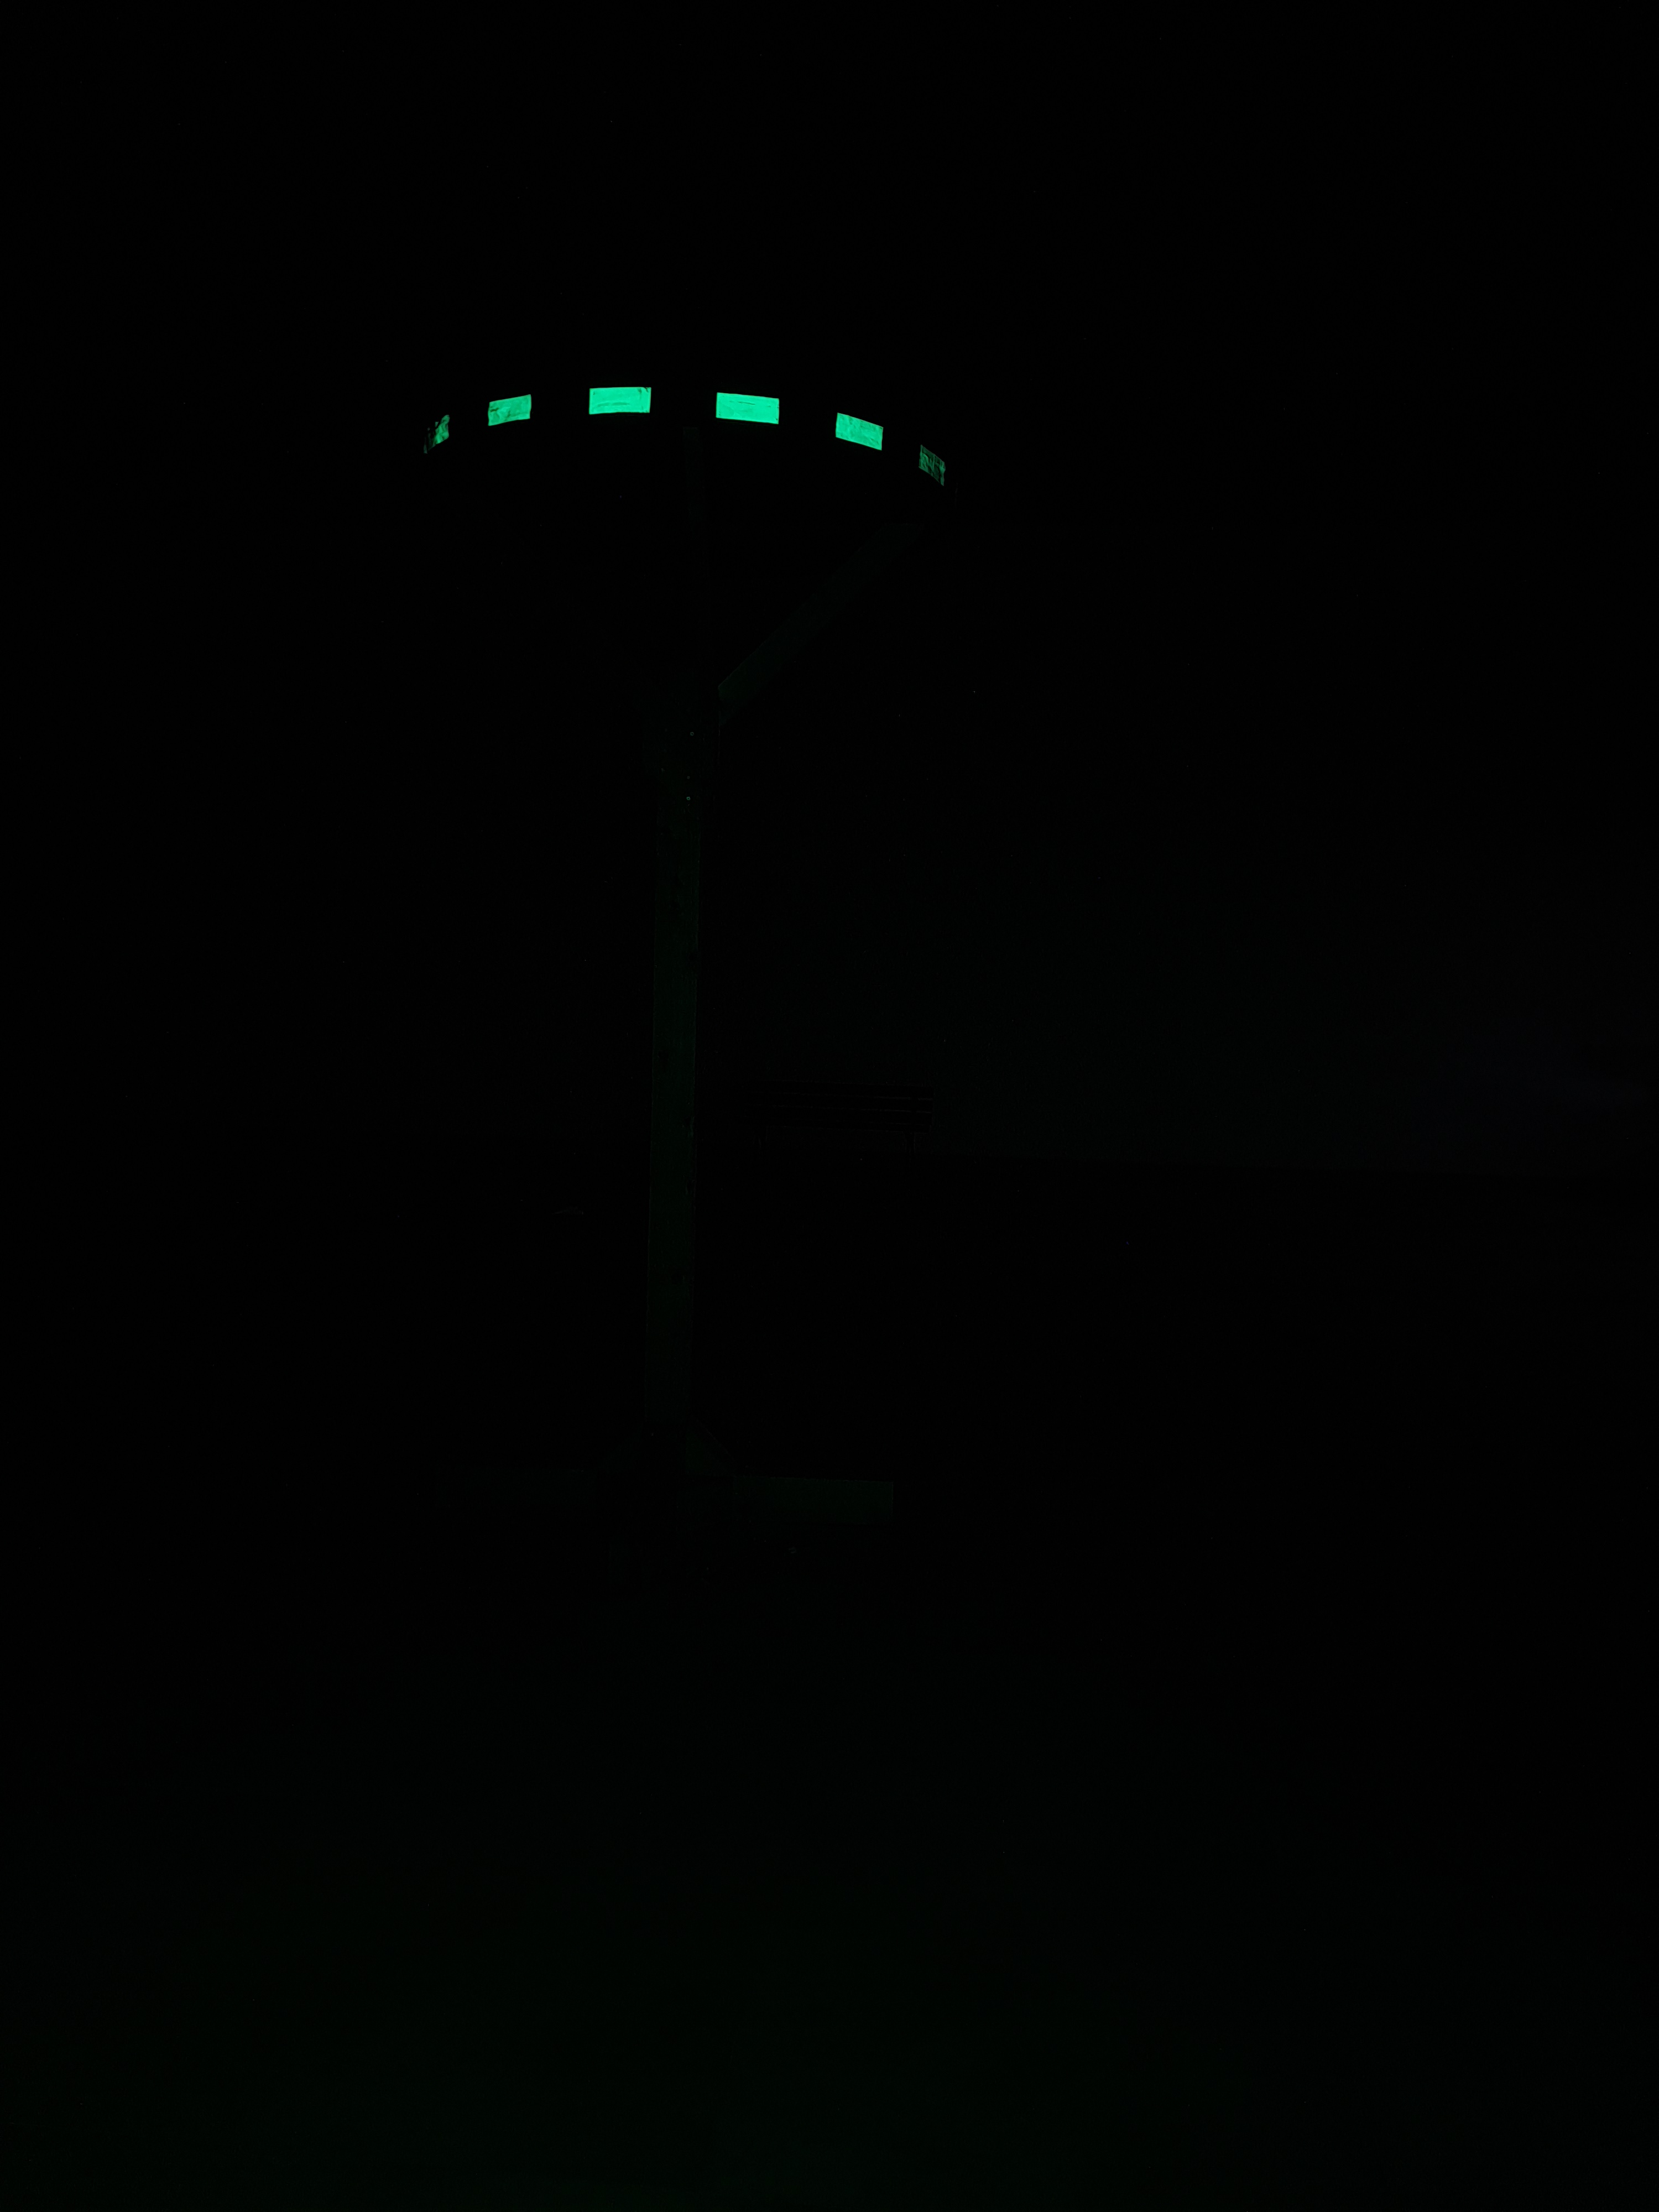hoop: (413, 378, 958, 502)
